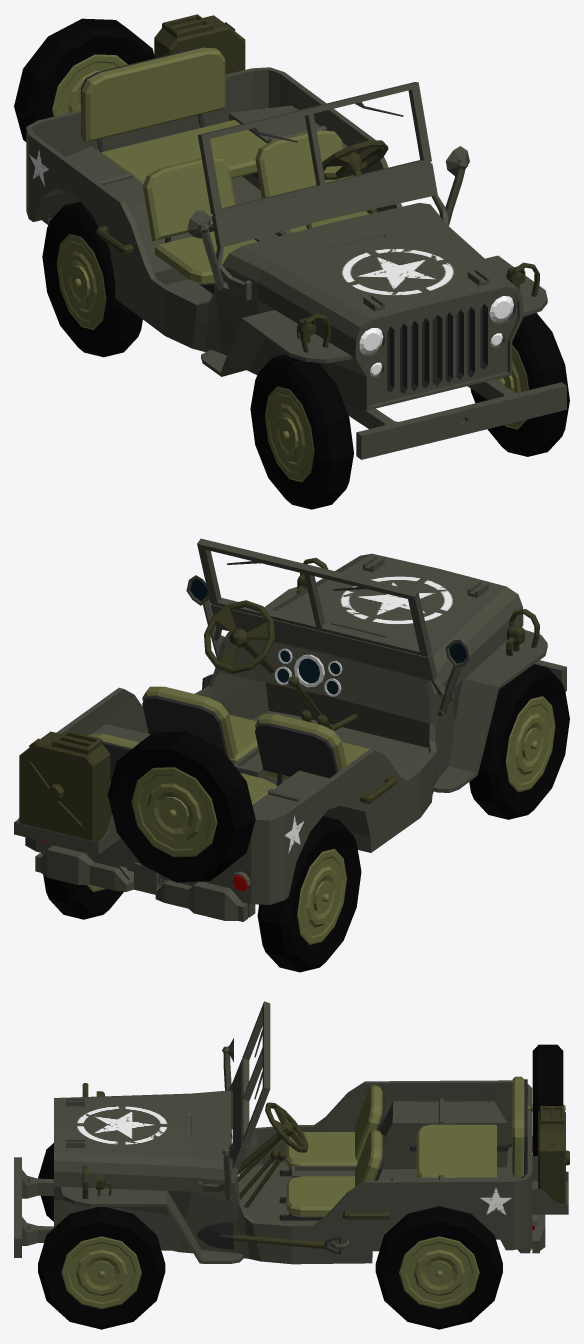
File: willys_mb_jeep.glb
The picture shows the model from 3 angles, top to bottom: view 1: azimuth 30°, elevation 25°; view 2: azimuth 150°, elevation 25°; view 3: azimuth 270°, elevation 25°; orthographic projection. The views are drawn at different scales.
Visible parts, largest first — view 1: Jeep, Ventana; view 2: Jeep, Ventana; view 3: Jeep, Ventana.
Part boxes in pixels (x1,y1,x2,y2): Jeep: [14, 14, 569, 509]; Ventana: [198, 82, 448, 301]; Jeep: [14, 553, 569, 972]; Ventana: [197, 538, 454, 701]; Jeep: [14, 1038, 569, 1329]; Ventana: [198, 1001, 270, 1197].
Size of the model in its own units: 1.58 by 1.57 by 3.31.
3 materials, 3 textured.
